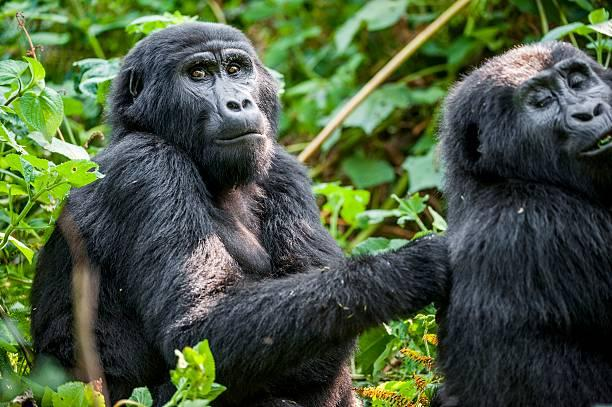goriile_montagne: (43, 0, 421, 407), (442, 5, 611, 407)
